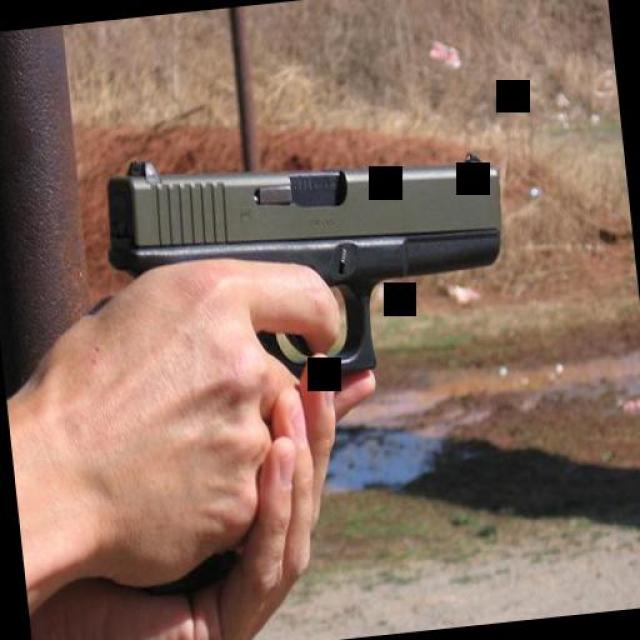gun: (80, 119, 541, 601)
